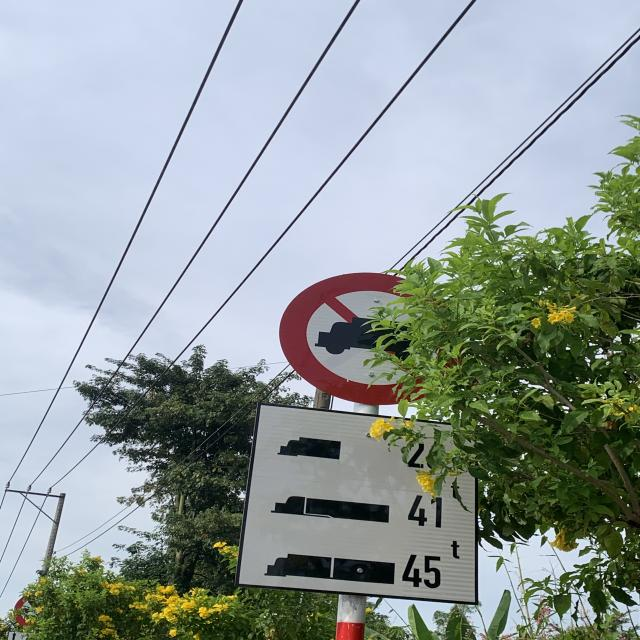Cam_Xe_Tai: (276, 272, 457, 403)
